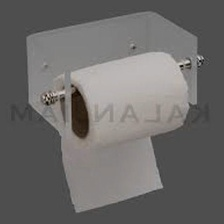tissue: (48, 45, 197, 218)
